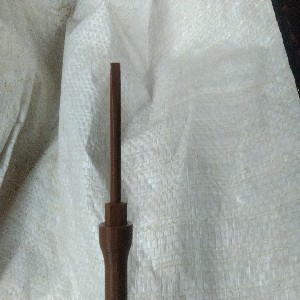obeng: (98, 61, 134, 300)
